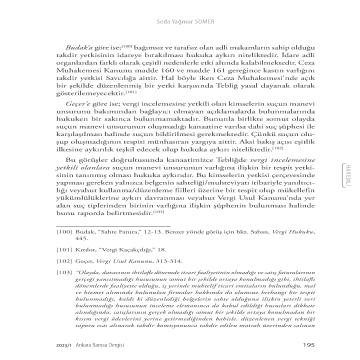footer: (70, 227, 321, 330)
header: (154, 18, 218, 26)
